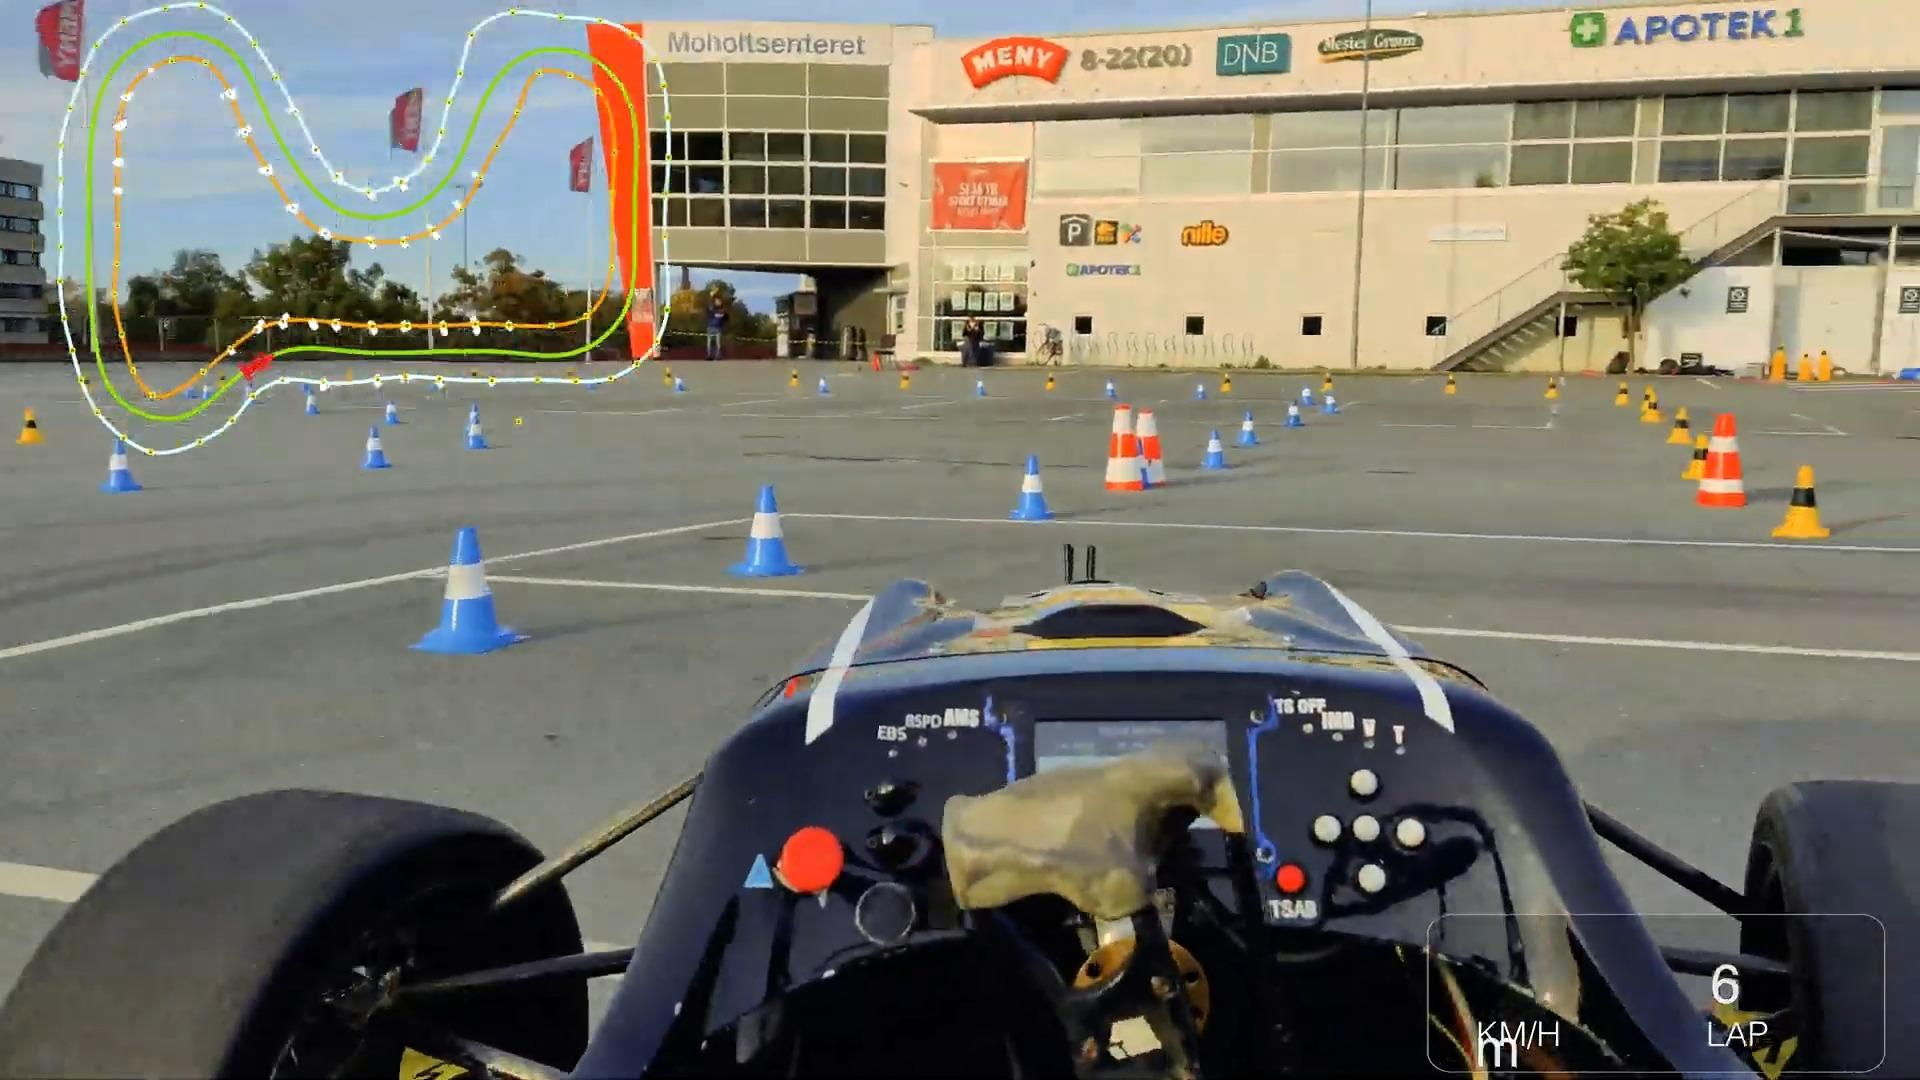blue_cone: (392, 516, 542, 667), (717, 479, 807, 583), (1000, 451, 1062, 522), (92, 433, 144, 497), (351, 425, 393, 472), (1200, 427, 1226, 471), (465, 414, 495, 452), (1236, 407, 1262, 448), (1134, 439, 1154, 488), (380, 398, 406, 427), (1282, 397, 1304, 430), (301, 389, 324, 418), (464, 406, 485, 438), (1319, 392, 1342, 417), (1100, 376, 1120, 398), (1298, 385, 1316, 409), (975, 377, 989, 400), (1195, 382, 1209, 402)
large_orange_cone: (1693, 410, 1753, 512), (1100, 401, 1146, 492), (1130, 404, 1175, 489)
yellow_cone: (1770, 459, 1841, 543), (12, 404, 50, 450), (1683, 434, 1713, 484), (1667, 404, 1696, 447), (1640, 392, 1664, 427), (1639, 384, 1656, 417), (1615, 378, 1634, 406), (1217, 372, 1237, 396), (1543, 376, 1563, 398), (1441, 373, 1460, 397), (1043, 372, 1060, 393), (1320, 372, 1336, 393)
